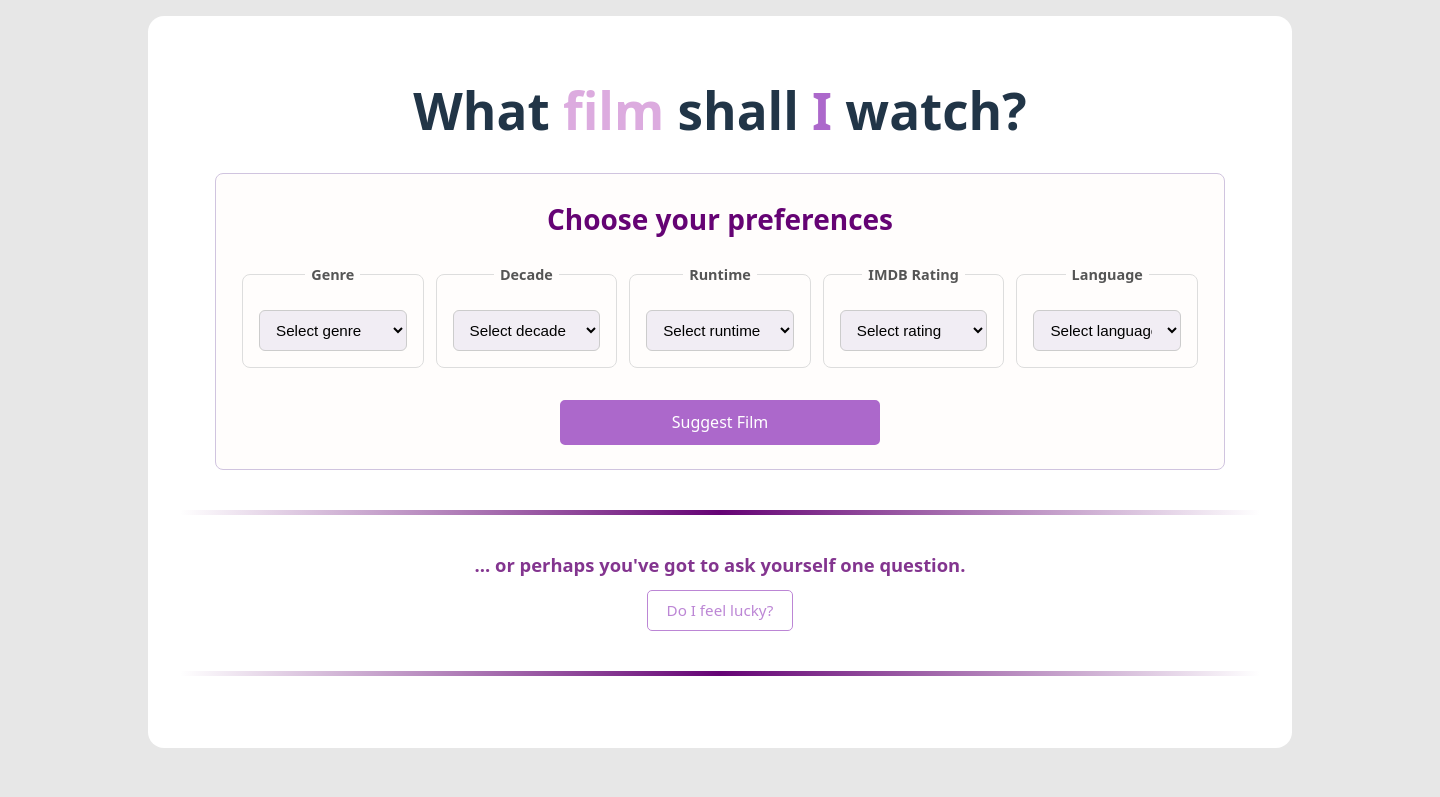
Test: App Component › "Suggest film" endpoint › displays a not-found message with reason when the API can't find a matching film
Click the button "Suggest Film": {"x": 720, "y": 422} [560,400,880,445]
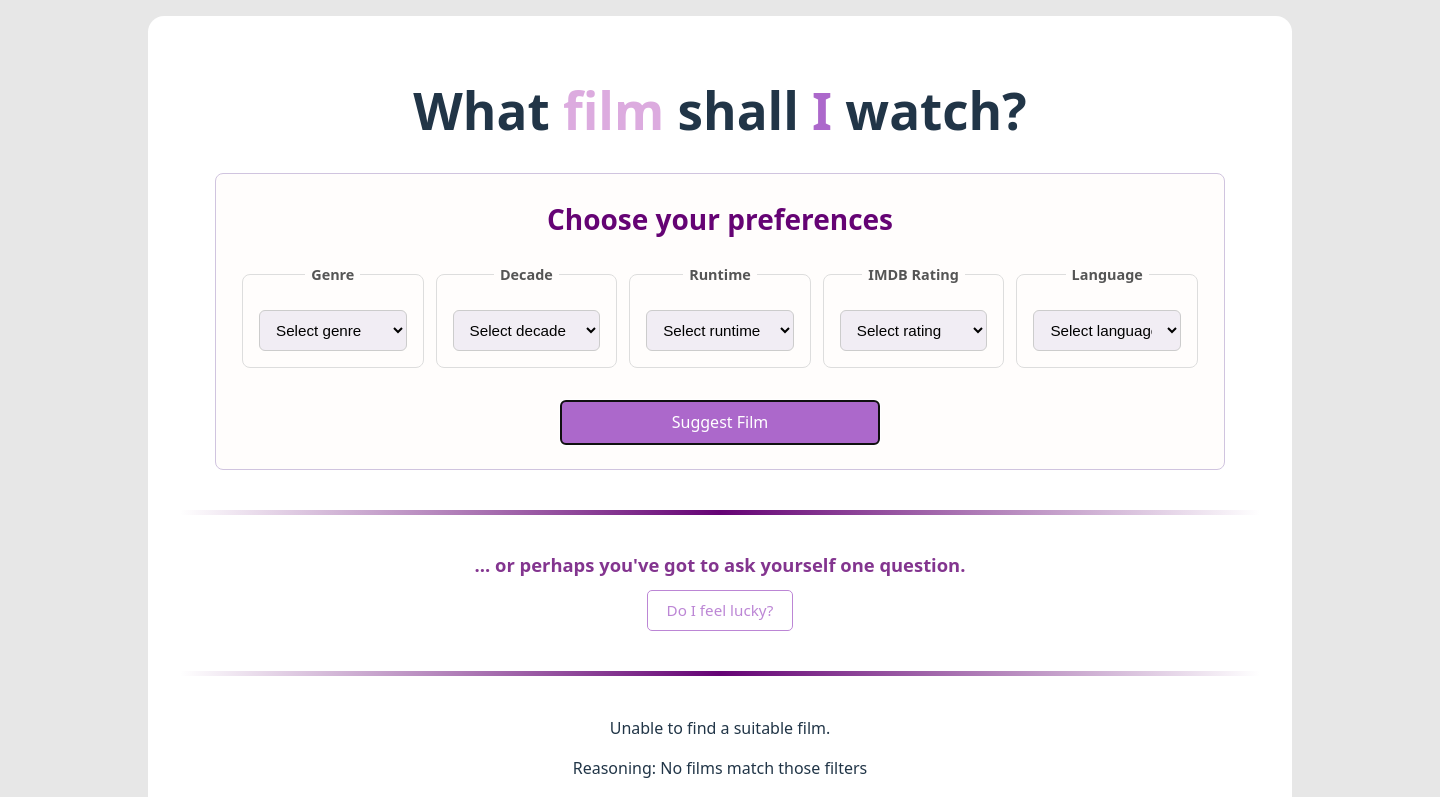
expect the text "Reasoning: No films match those filters" is shown: met, box [573,756,867,778]
